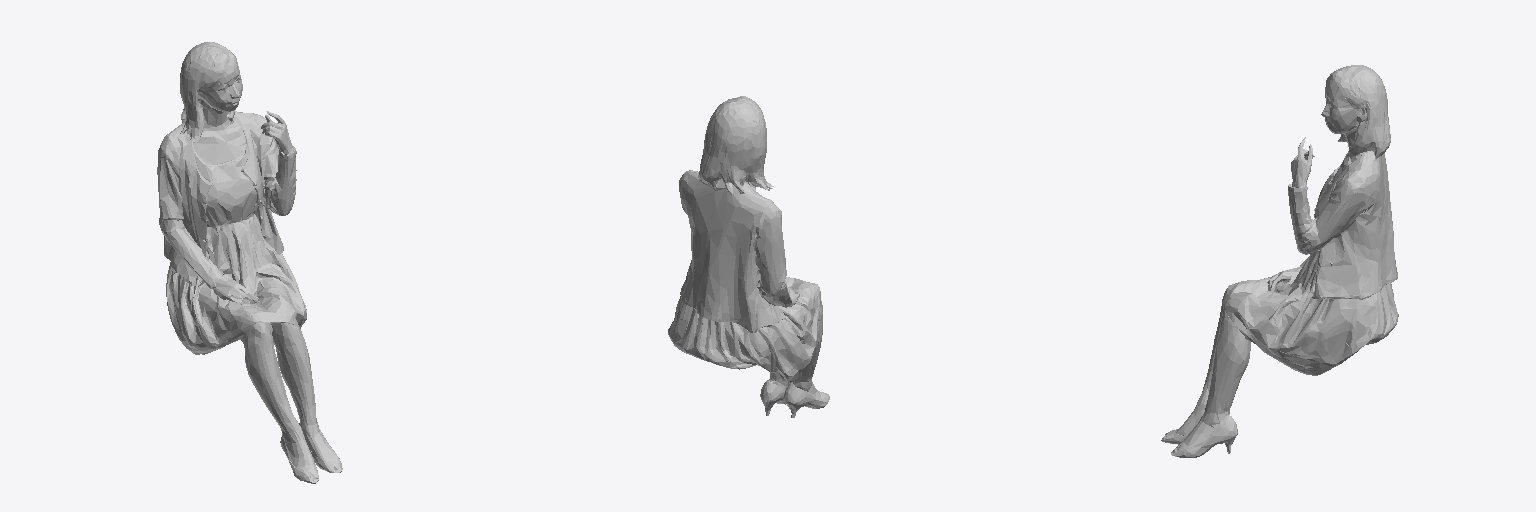
The model's file is aya.obj.
3 renders of one model, left to right at view 1: azimuth 30°, elevation 25°; view 2: azimuth 150°, elevation 25°; view 3: azimuth 270°, elevation 25°, orthographic.
Visible parts, largest first — view 1: 091_W_Aya_100K_01; view 2: 091_W_Aya_100K_01; view 3: 091_W_Aya_100K_01.
Part boxes in pixels (x1,y1,x2,y2): 091_W_Aya_100K_01: (157,42,342,483); 091_W_Aya_100K_01: (668,96,829,417); 091_W_Aya_100K_01: (1161,65,1398,457).
Size of the model in its own units: 423 by 1317 by 766.